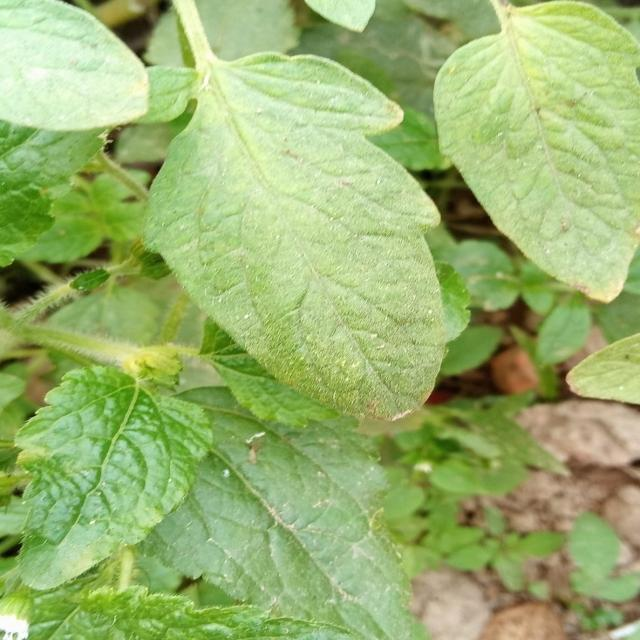Healthy: (125, 0, 484, 426), (0, 330, 233, 628), (434, 0, 639, 301)
